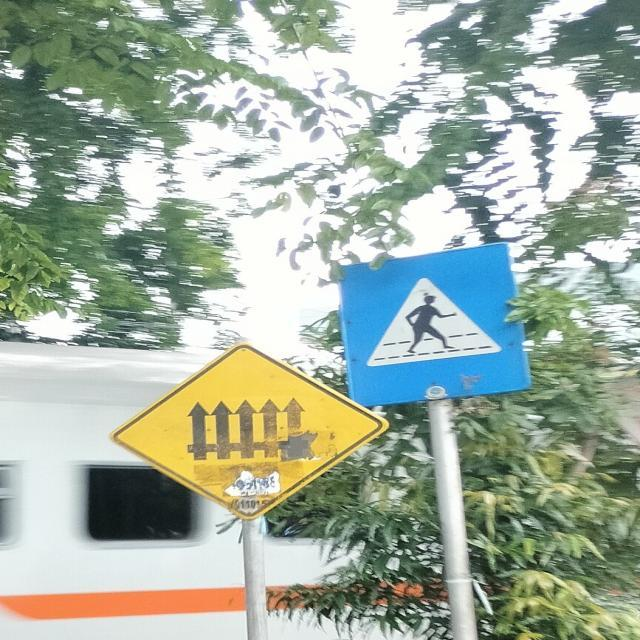Peringatan Perlintasan Kereta Api: (111, 342, 387, 519)
Perintah Jalur Penyebrangan: (331, 242, 536, 399)
